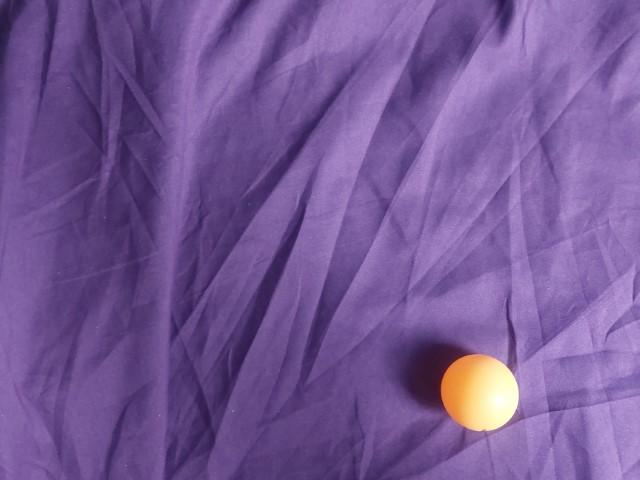oball: (113, 43, 207, 132)
